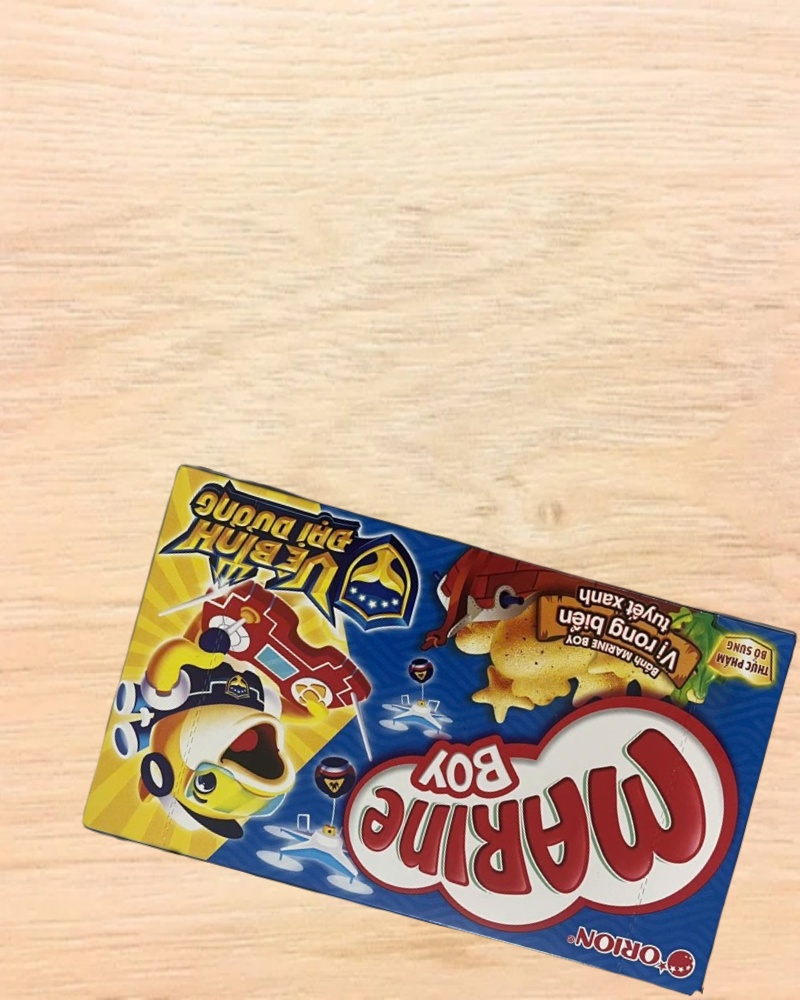Marine: (77, 463, 800, 999)
